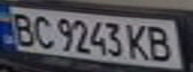2: (69, 16, 90, 54)
3: (103, 19, 127, 58)
4: (87, 18, 109, 56)
9: (51, 15, 75, 53)
B: (142, 22, 181, 63), (3, 9, 39, 47)
C: (27, 12, 57, 50)
K: (124, 20, 154, 62)
